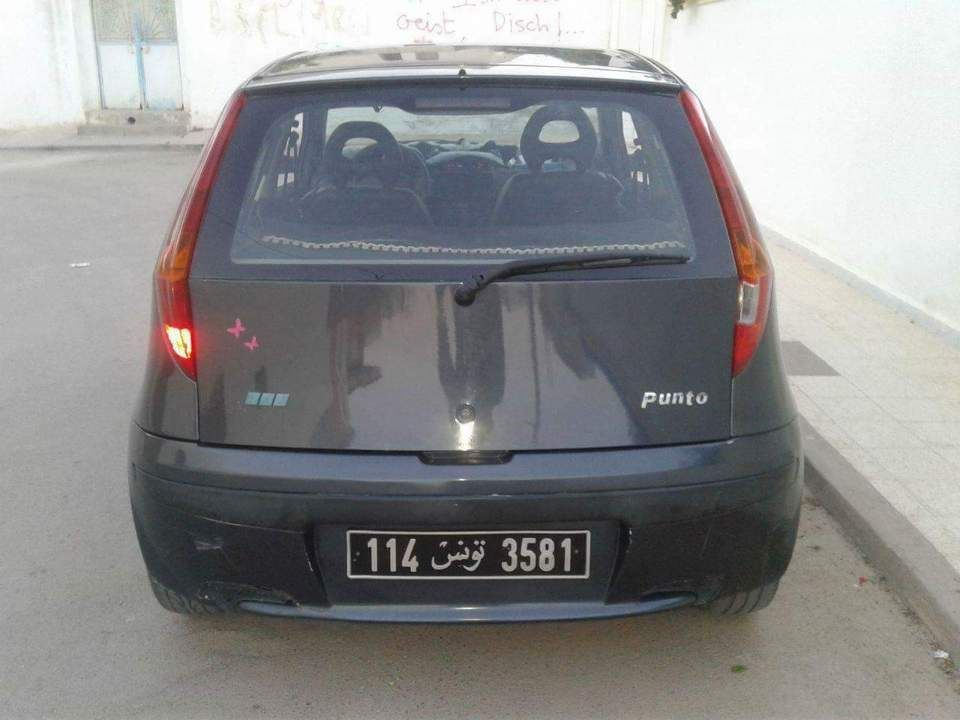LP: (344, 527, 593, 582)
